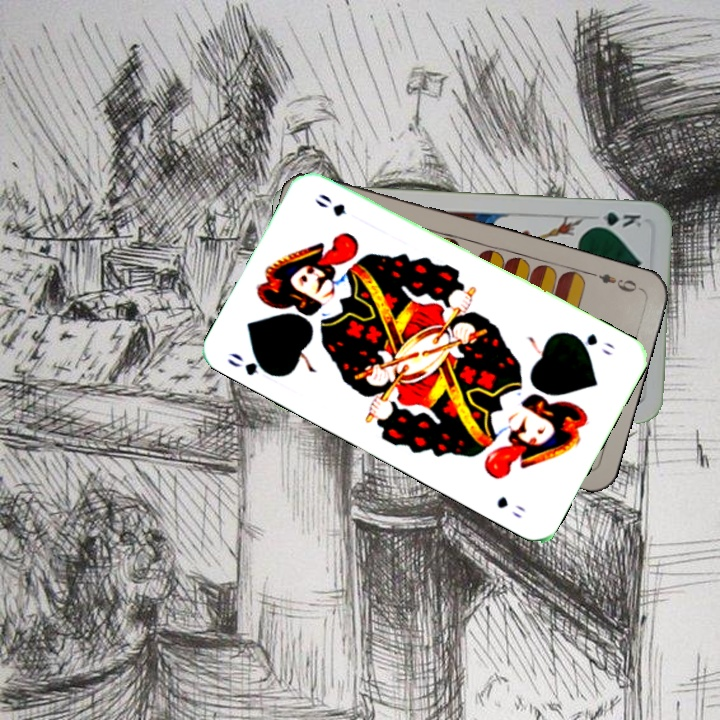E9: (586, 268, 643, 295)
GK: (587, 208, 644, 231)
GO: (223, 348, 280, 380), (567, 329, 617, 359)
